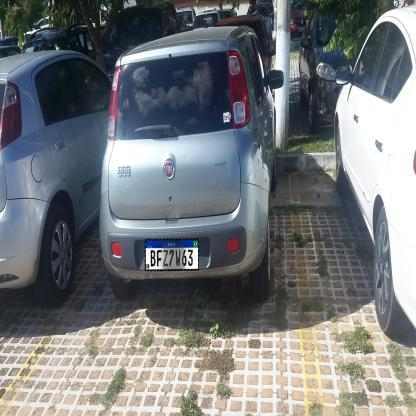PlacaM: (145, 238, 199, 272)
